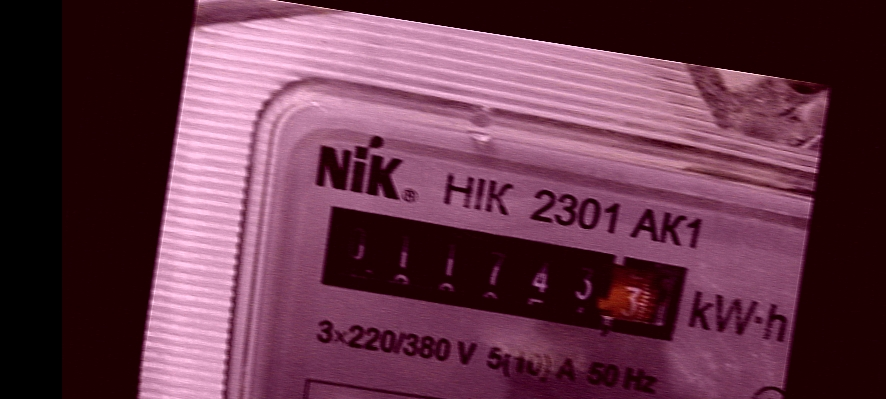0: (343, 219, 371, 261), (393, 226, 417, 269)
1: (439, 234, 461, 277)
3: (572, 257, 598, 303), (618, 277, 643, 318)
4: (528, 250, 554, 293)
7: (481, 240, 511, 287)
screen: (299, 187, 698, 351)
